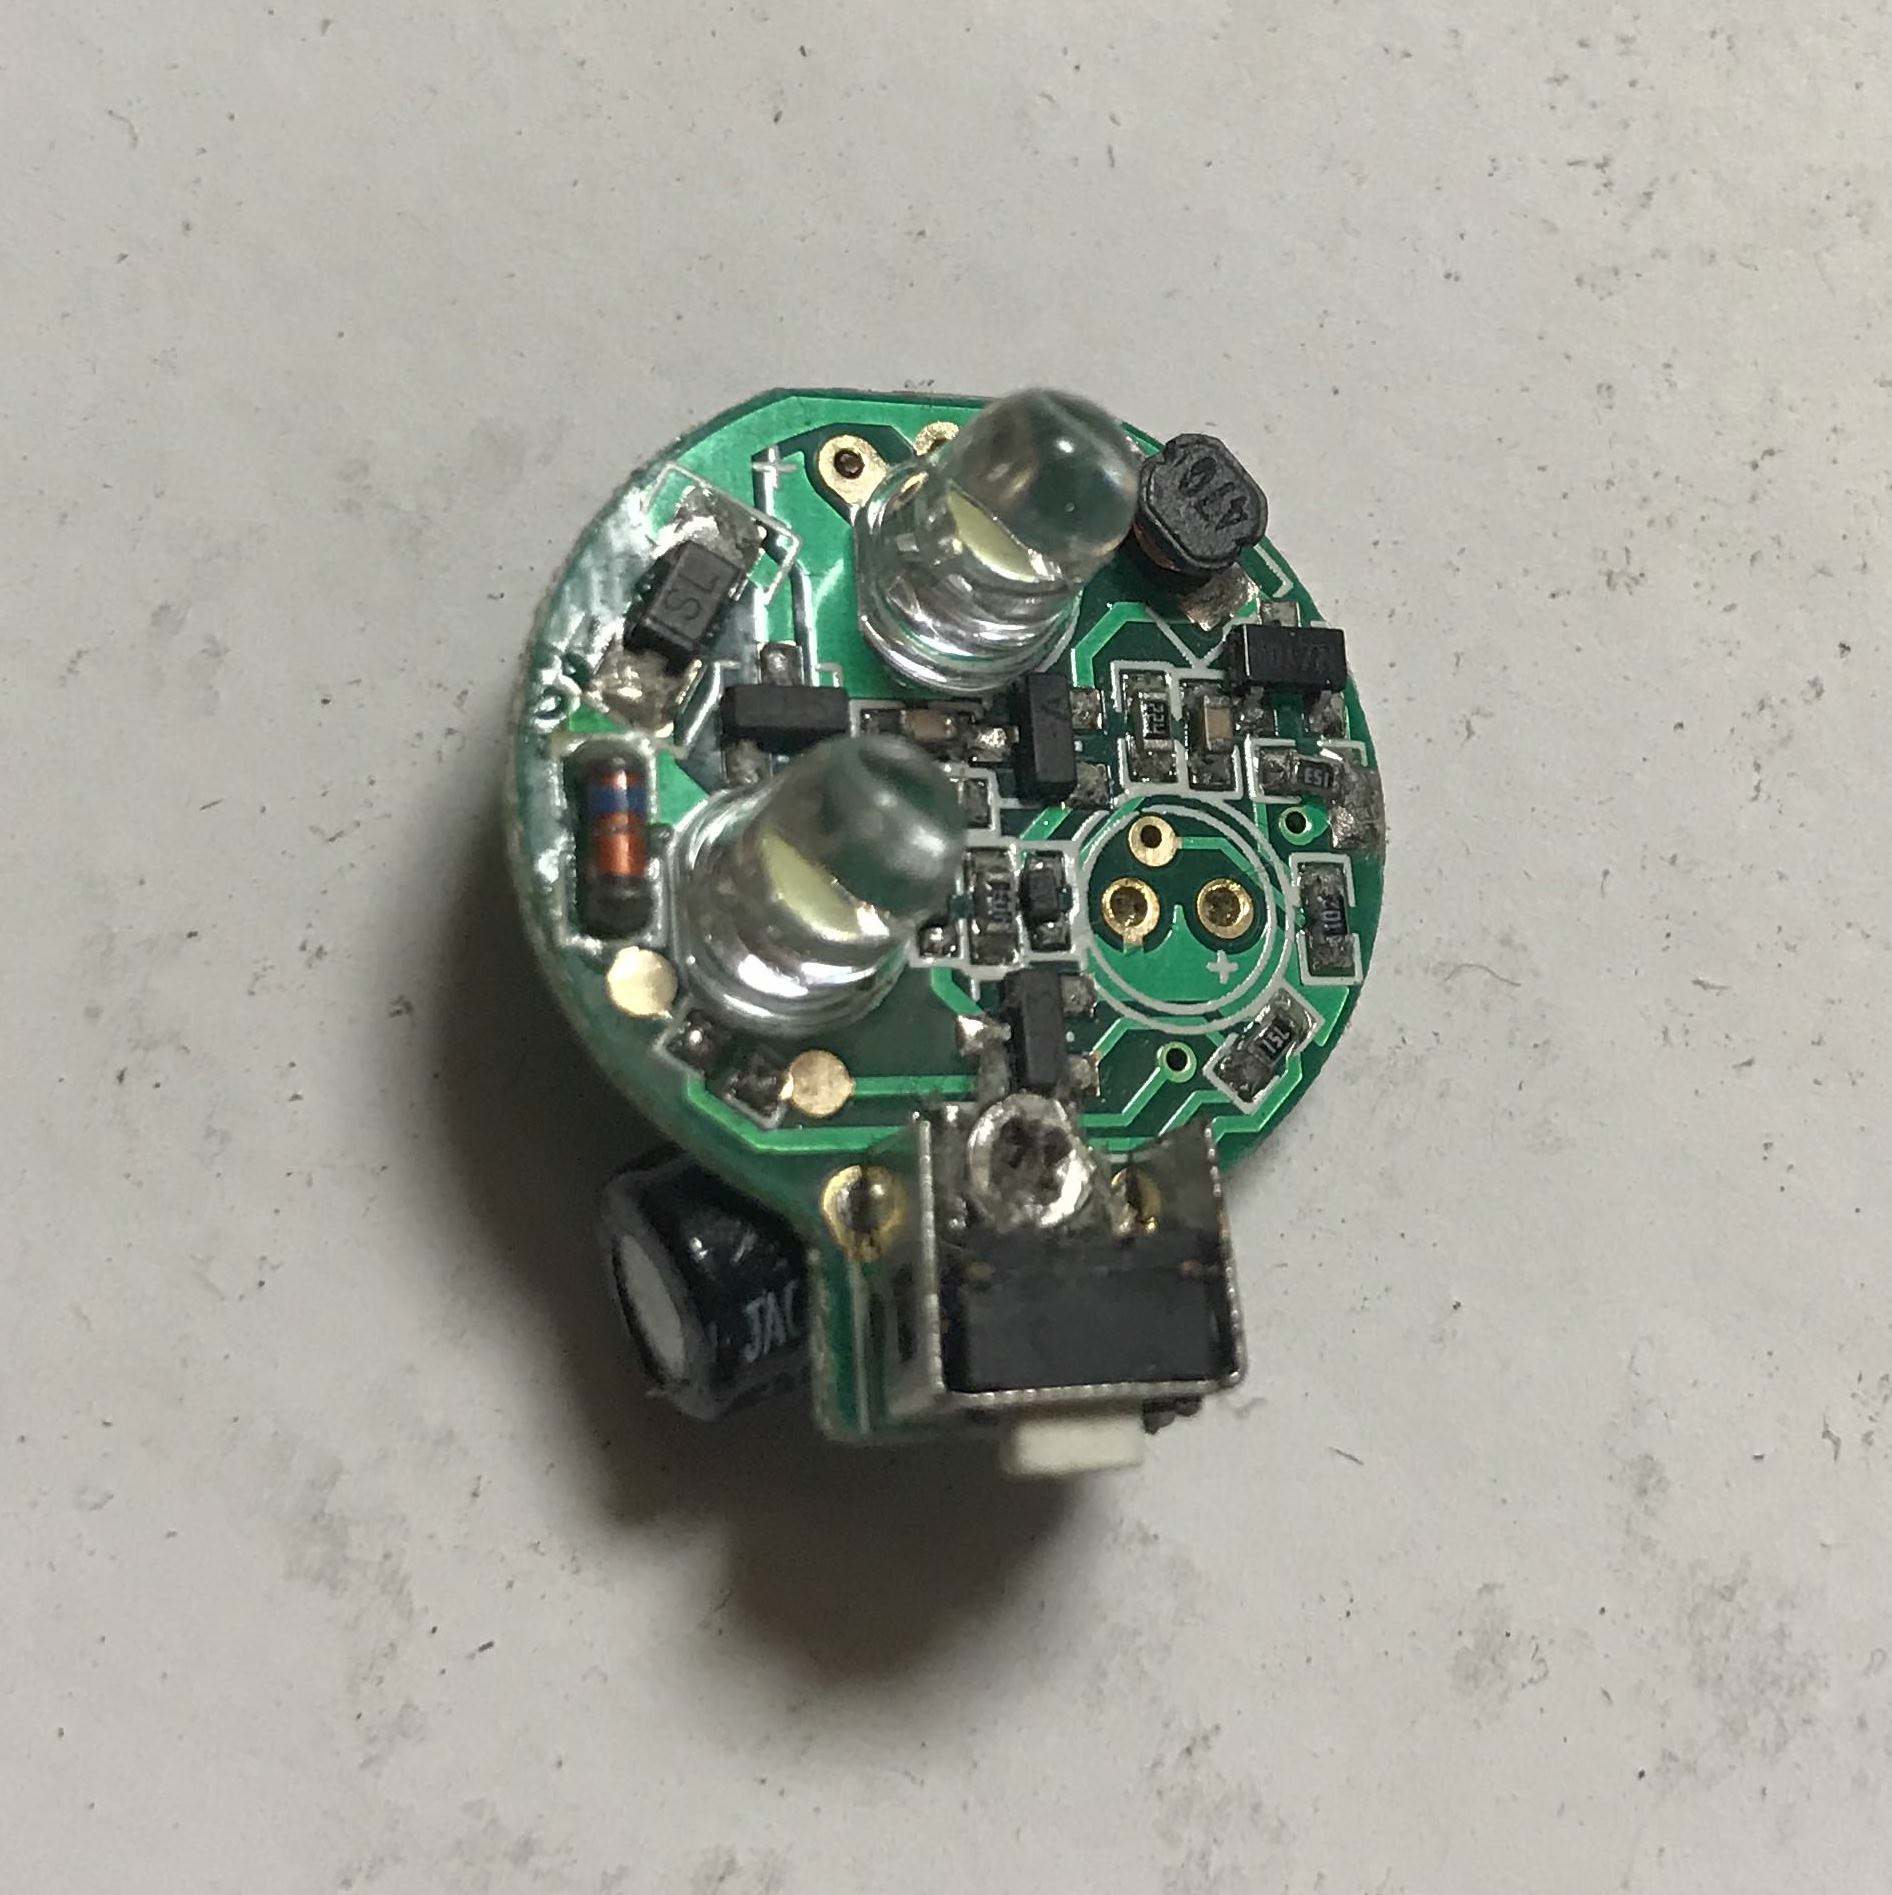Capacitor: (584, 1128, 820, 1431)
LED: (651, 726, 967, 1043), (842, 383, 1150, 703)
